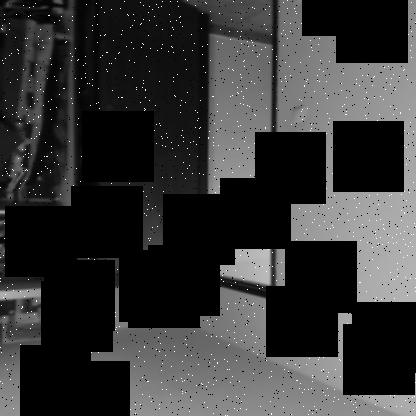Porte: (85, 1, 280, 305)
